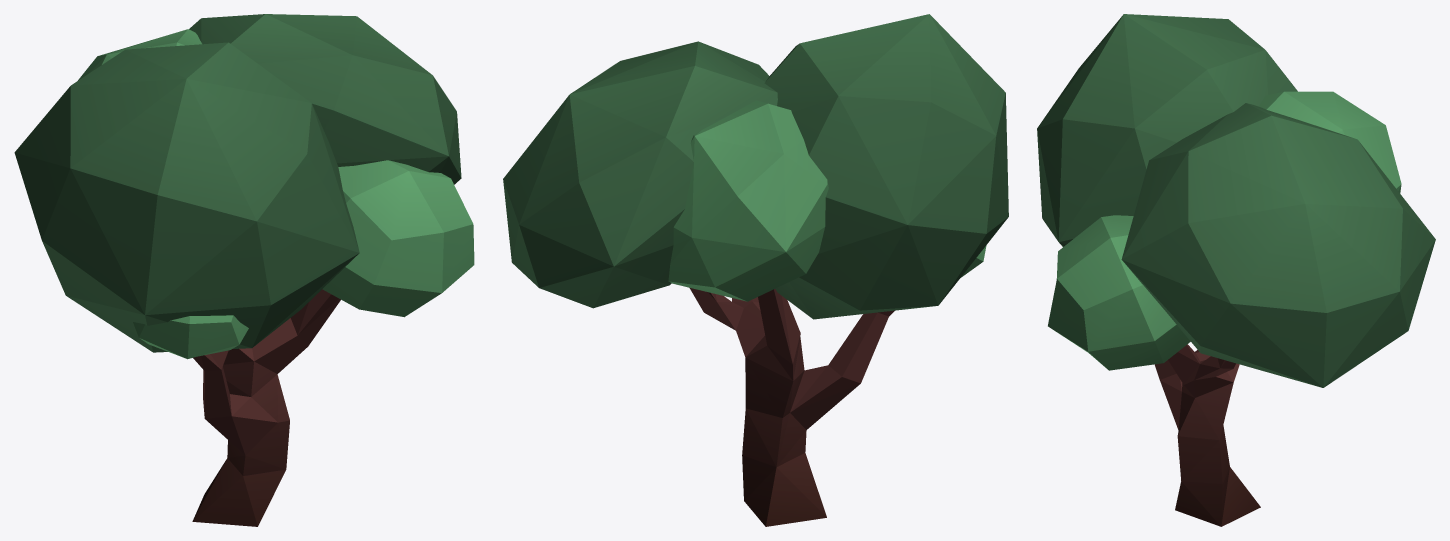
The model's file is DarkTree1.fbx.
The picture shows the model from 3 angles, left to right: view 1: azimuth 30°, elevation 25°; view 2: azimuth 150°, elevation 25°; view 3: azimuth 270°, elevation 25°; orthographic projection. The views are drawn at different scales.
Visible parts, largest first — view 1: DarkTree1; view 2: DarkTree1; view 3: DarkTree1.
Part boxes in pixels (x1,y1,x2,y2): DarkTree1: (14,14,474,526); DarkTree1: (503,14,1008,526); DarkTree1: (1037,14,1435,526).
Bounding box in the file's own units: 484 × 530 × 424.
